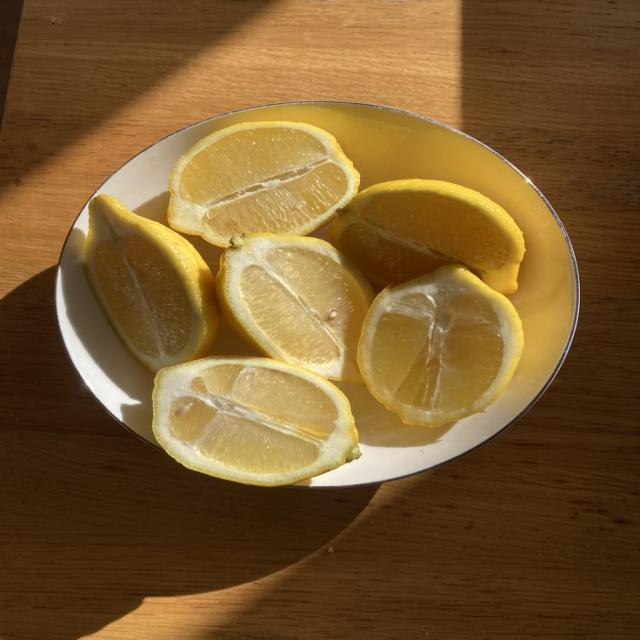lemon: (154, 357, 359, 486), (359, 265, 523, 426), (168, 122, 359, 246), (84, 196, 219, 371), (217, 234, 373, 383), (331, 179, 525, 294)
